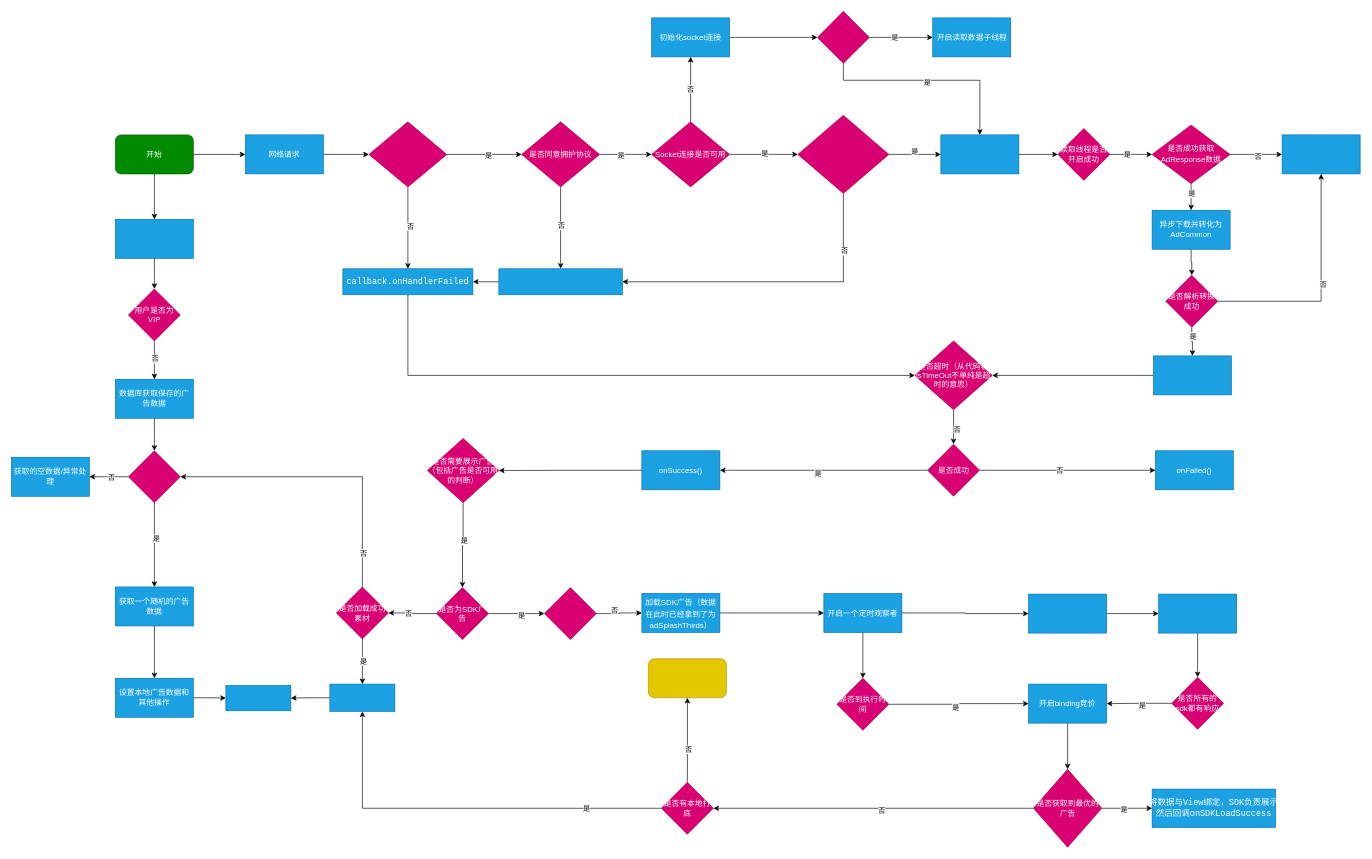
Image size: 1372x859. Some labels were removed from this diagram. Here are the shapes that lost their labels. From the top down, the box of each, then its label:
(817, 11, 869, 63): 是否连接成功
(368, 121, 447, 187): 是否网络可用且有网络权限
(797, 115, 889, 193): context是否初始化完成
(940, 134, 1019, 174): 发起请求获取数据
(1281, 134, 1360, 174): 异常处理
(115, 219, 193, 258): 本地
(498, 268, 622, 295): callback.onRequestErr
(1153, 355, 1231, 395): 回调onHandlerSuccess
(128, 450, 180, 503): 是否获取成功
(544, 587, 596, 640): 是否超过等待时间
(1028, 593, 1107, 633): 并行请求三方sdk
(1158, 593, 1237, 633): 分别调用相对应的SDK接口，并转化广告数据
(225, 685, 291, 711): 展示广告
(329, 683, 395, 711): 适配投放样式
(648, 658, 726, 698): 结束
